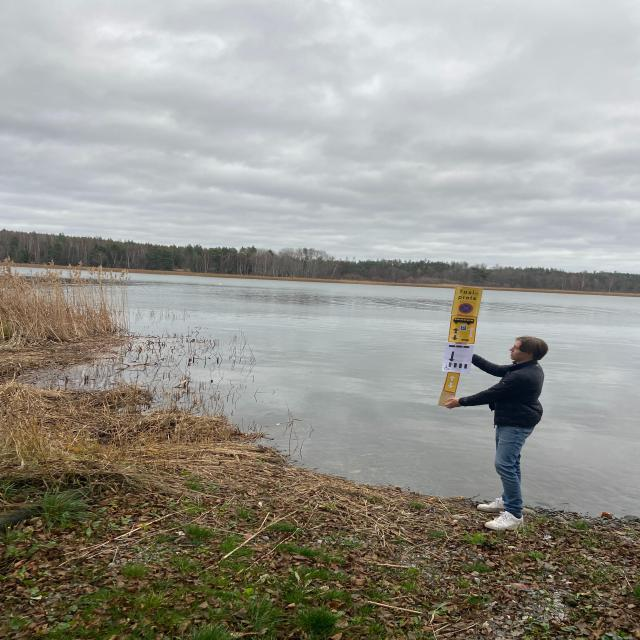lastplats: (451, 283, 482, 320)
